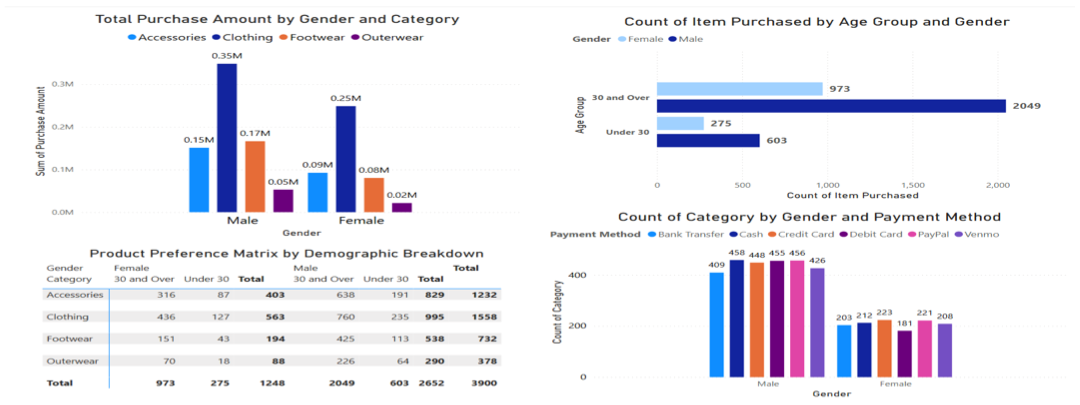

The page's visual inventory and layout, read from the dashboard file:
{"tool":"powerbi","page":{"name":"Sales By Customer Demographic","canvas":[1280,720],"ordinal":2},"visuals":[{"type":"clusteredColumnChart","title":"Total Purchase Amount by Gender and Category","fields":{"Category":["RetailTable.Gender"],"Y":["Sum(RetailTable.Purchase Amount)"],"Series":["RetailTable.Category"]},"box":[31.7,15.9,591.6,412.4],"z":0},{"type":"clusteredColumnChart","fields":{"Category":["RetailTable.Gender"],"Series":["RetailTable.Payment Method"],"Y":["CountNonNull(RetailTable.Category)"]},"box":[647.1,374.2,628.1,345.8],"z":1000},{"type":"clusteredBarChart","fields":{"Category":["RetailTable.Age Group"],"Series":["RetailTable.Gender"],"Y":["CountNonNull(RetailTable.Item Purchased)"]},"box":[674.1,20.6,591.6,339.4],"z":2000},{"type":"pivotTable","title":"Product Preference Matrix by Demographic Breakdown","fields":{"Rows":["RetailTable.Category"],"Columns":["RetailTable.Gender","RetailTable.Age Group"],"Values":["CountNonNull(RetailTable.Item Purchased)"]},"box":[42.8,440.9,591.6,266.5],"z":3000}]}

Visuals, with their boxes on the page's 1280x720 design canvas (x1, y1, x2, y2). These are canvas units, not pixel positions in the 1080x405 screenshot, which may show the page scaled, cropped or inside an application window:
"Total Purchase Amount by Gender and Category" clusteredColumnChart: 32/16/623/428
clusteredColumnChart - RetailTable.Gender x RetailTable.Payment Method: 647/374/1275/720
clusteredBarChart - RetailTable.Age Group x RetailTable.Gender: 674/21/1266/360
"Product Preference Matrix by Demographic Breakdown" pivotTable: 43/441/634/707
